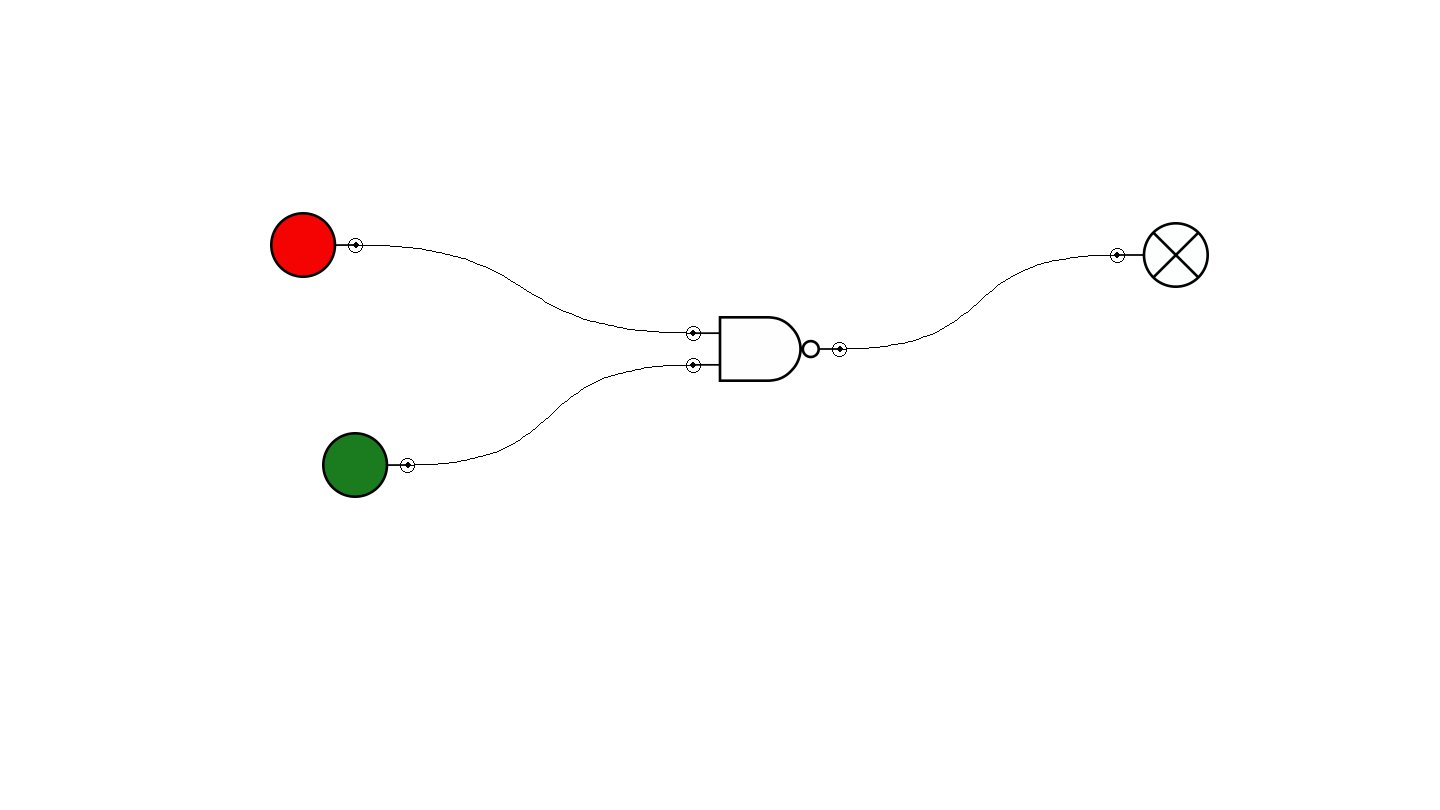bulb: (1110, 222, 1209, 288)
nand: (686, 316, 847, 382)
switch_False: (270, 212, 363, 278)
switch_True: (322, 432, 415, 498)
